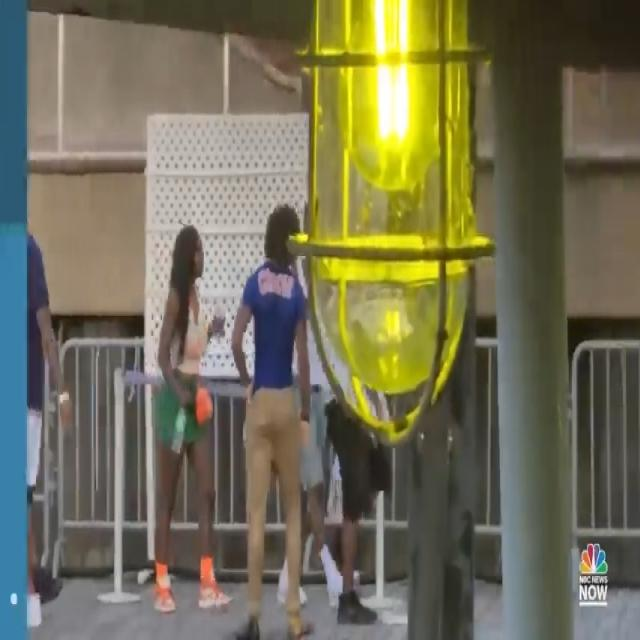non-fight: (137, 187, 320, 640)
